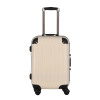luggage: (28, 5, 73, 100)
